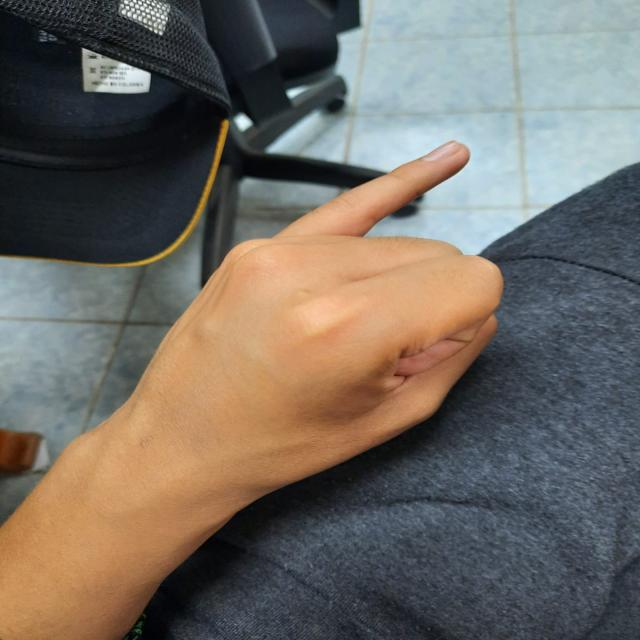Z: (105, 120, 524, 553)
